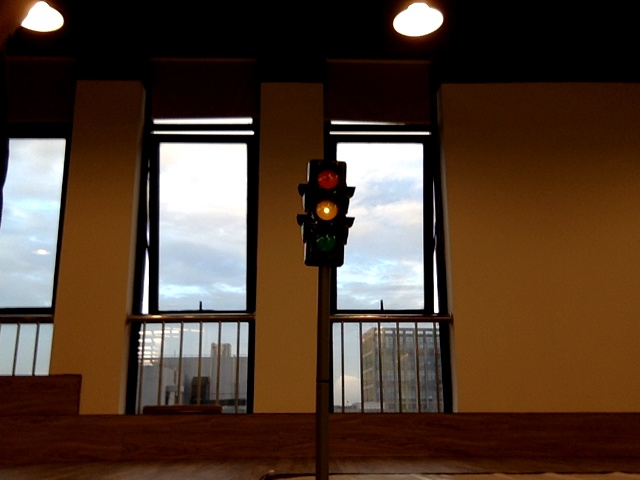yellow: (307, 162, 339, 258)
